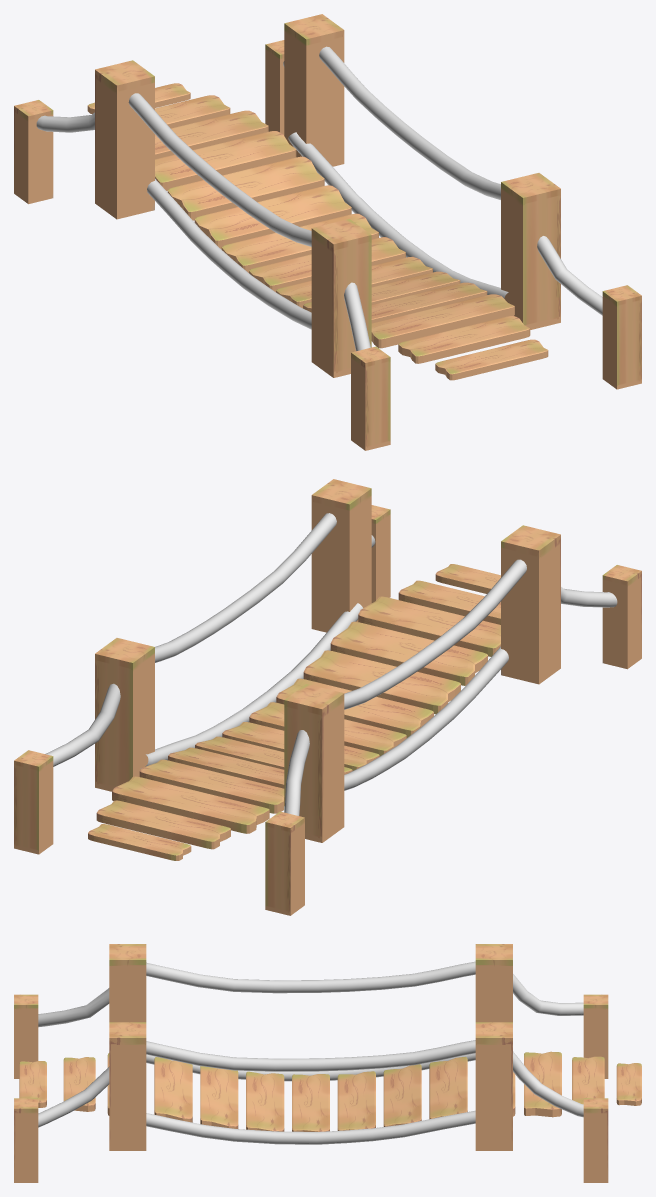
The model's file is jembatan.fbx.
The picture shows the model from 3 angles, top to bottom: view 1: azimuth 30°, elevation 25°; view 2: azimuth 150°, elevation 25°; view 3: azimuth 270°, elevation 25°; orthographic projection. The views are drawn at different scales.
Visible parts, largest first — view 1: jembatan; view 2: jembatan; view 3: jembatan.
Boxes of the visible parts, x1,y1,x2,y2 form: jembatan: (14,14,641,450); jembatan: (14,479,641,915); jembatan: (14,944,641,1182).
Size of the model in its own units: 404 by 223 by 941.
3 materials, 2 textured.
